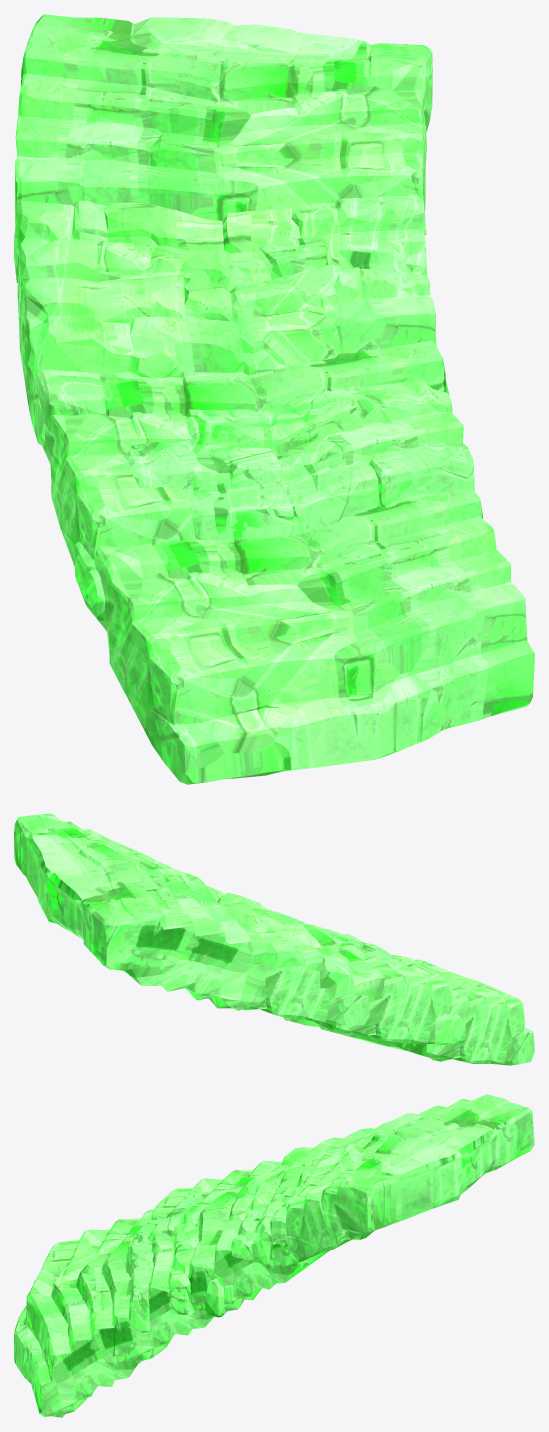
File: Stair.fbx
3 views of the same model, one above another, from view 1: azimuth 30°, elevation 25°; view 2: azimuth 150°, elevation 25°; view 3: azimuth 270°, elevation 25° (orthographic). The views are drawn at different scales.
Parts seen in each view (by area): view 1: Dn_HB_Stairs_Vulgrim.mo; view 2: Dn_HB_Stairs_Vulgrim.mo; view 3: Dn_HB_Stairs_Vulgrim.mo.
Boxes of the visible parts, x1=… form: Dn_HB_Stairs_Vulgrim.mo: x1=14, y1=14, x2=534, y2=784; Dn_HB_Stairs_Vulgrim.mo: x1=14, y1=813, x2=534, y2=1065; Dn_HB_Stairs_Vulgrim.mo: x1=14, y1=1094, x2=534, y2=1417.
Bounding box in the file's own units: 1441 × 1190 × 2014.
